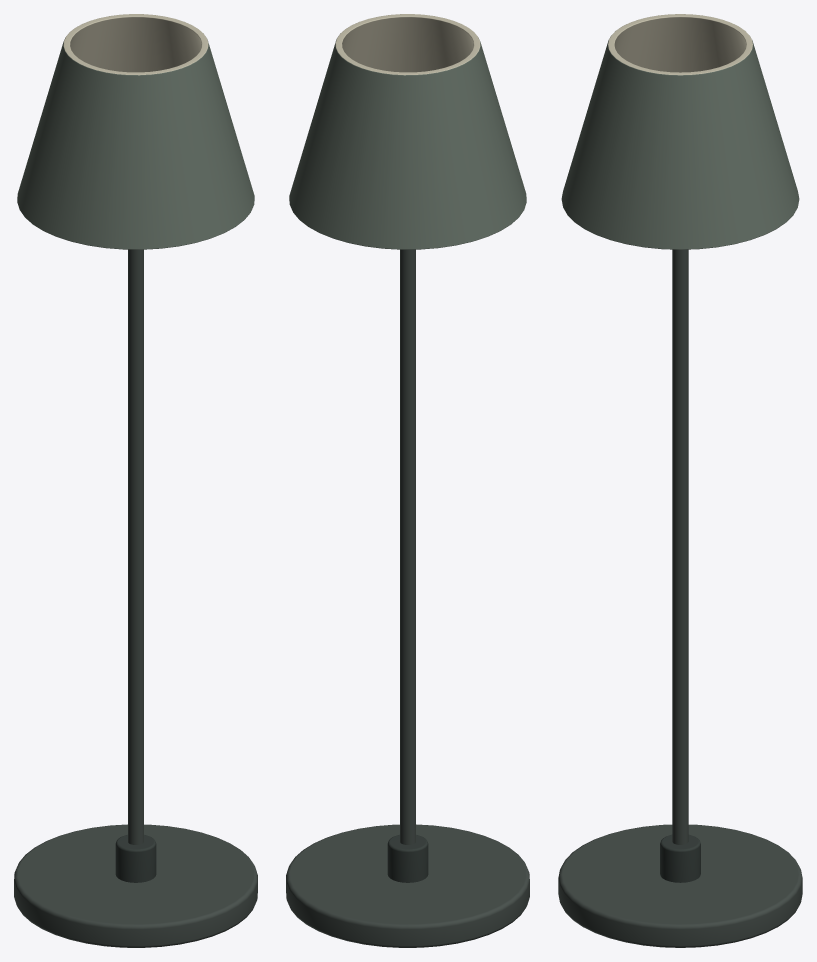
Rendered from SM_Lamp_Floor.glb.
3 views of the same model, side by side, from view 1: azimuth 30°, elevation 25°; view 2: azimuth 150°, elevation 25°; view 3: azimuth 270°, elevation 25° (orthographic).
Visible parts, largest first — view 1: SM_Lamp_Floor__Body; view 2: SM_Lamp_Floor__Body; view 3: SM_Lamp_Floor__Body.
Part boxes in pixels (<box>): SM_Lamp_Floor__Body: <box>14,14,257,947</box>; SM_Lamp_Floor__Body: <box>286,14,529,947</box>; SM_Lamp_Floor__Body: <box>558,14,802,947</box>.
Bounding box in the file's own units: 0.42 × 1.62 × 0.42.
